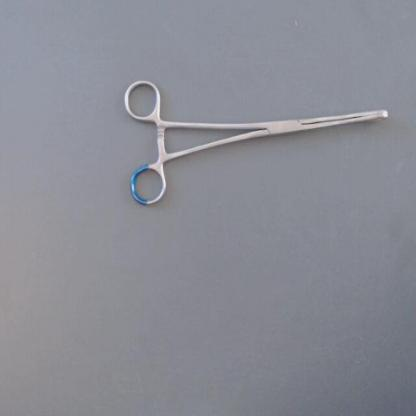Sponge Forceps: (120, 74, 392, 209)
